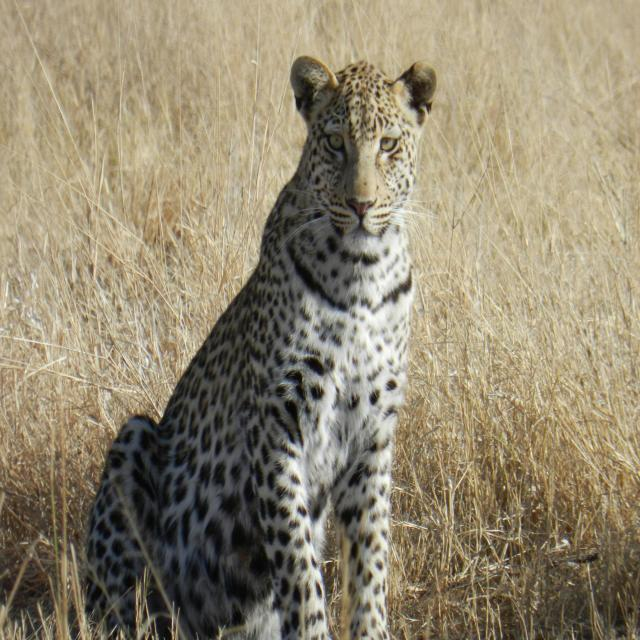Leopard: (26, 18, 520, 640)
